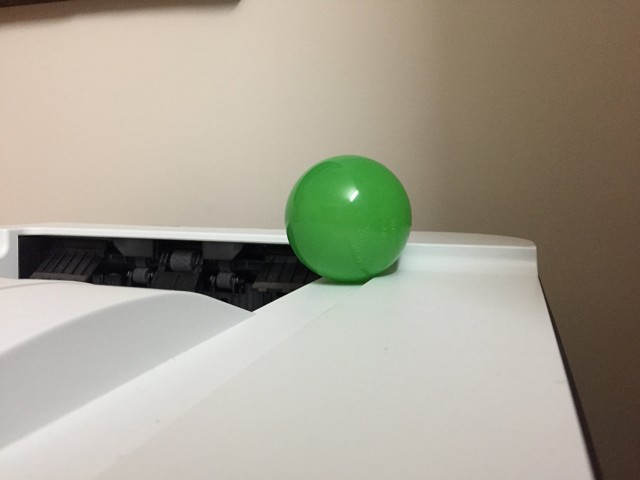Ball: (282, 154, 412, 280)
